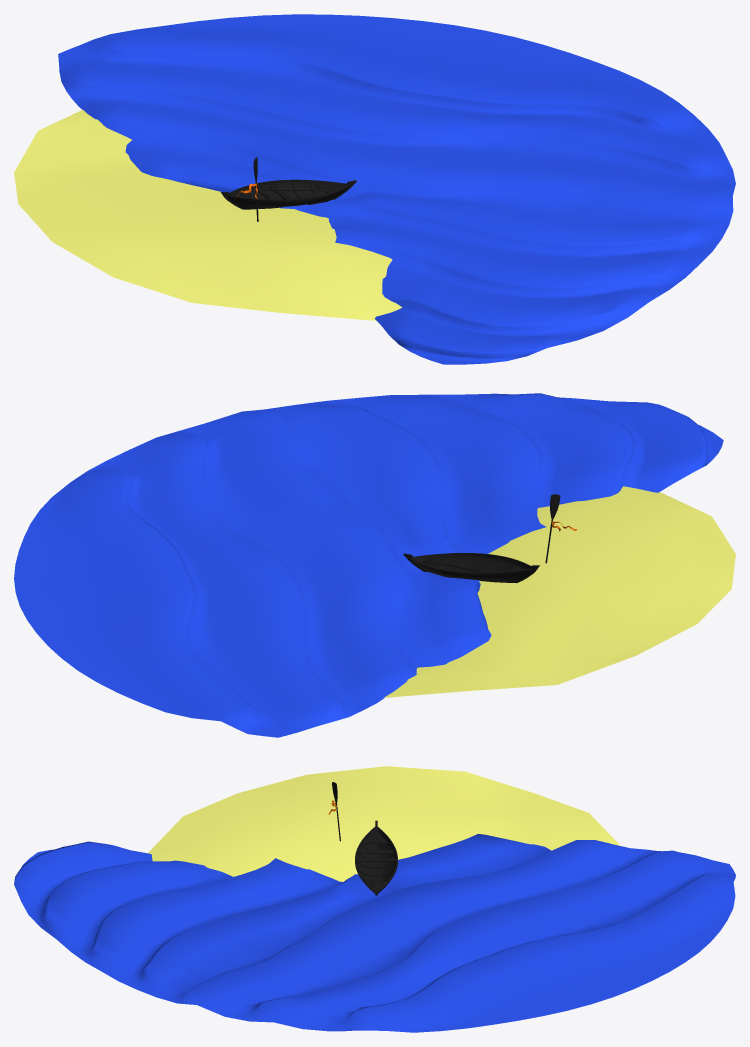
The picture shows the model from 3 angles, top to bottom: view 1: azimuth 30°, elevation 25°; view 2: azimuth 150°, elevation 25°; view 3: azimuth 270°, elevation 25°; orthographic projection. The views are drawn at different scales.
Visible parts, largest first — view 1: Water_LOW, Ground_LOW, Boat_LOW; view 2: Water_LOW, Ground_LOW, Boat_LOW; view 3: Water_LOW, Ground_LOW, Boat_LOW.
Part boxes in pixels (box(x1,y1,x2,y2)): Water_LOW: box(58, 14, 735, 364); Ground_LOW: box(14, 110, 402, 320); Boat_LOW: box(221, 157, 356, 221); Water_LOW: box(14, 393, 723, 737); Ground_LOW: box(384, 486, 735, 697); Boat_LOW: box(403, 494, 560, 583); Water_LOW: box(14, 834, 735, 1032); Ground_LOW: box(148, 766, 620, 881); Boat_LOW: box(332, 782, 397, 895).
Bounding box in the file's own units: 1.67 × 0.3059 × 2.
